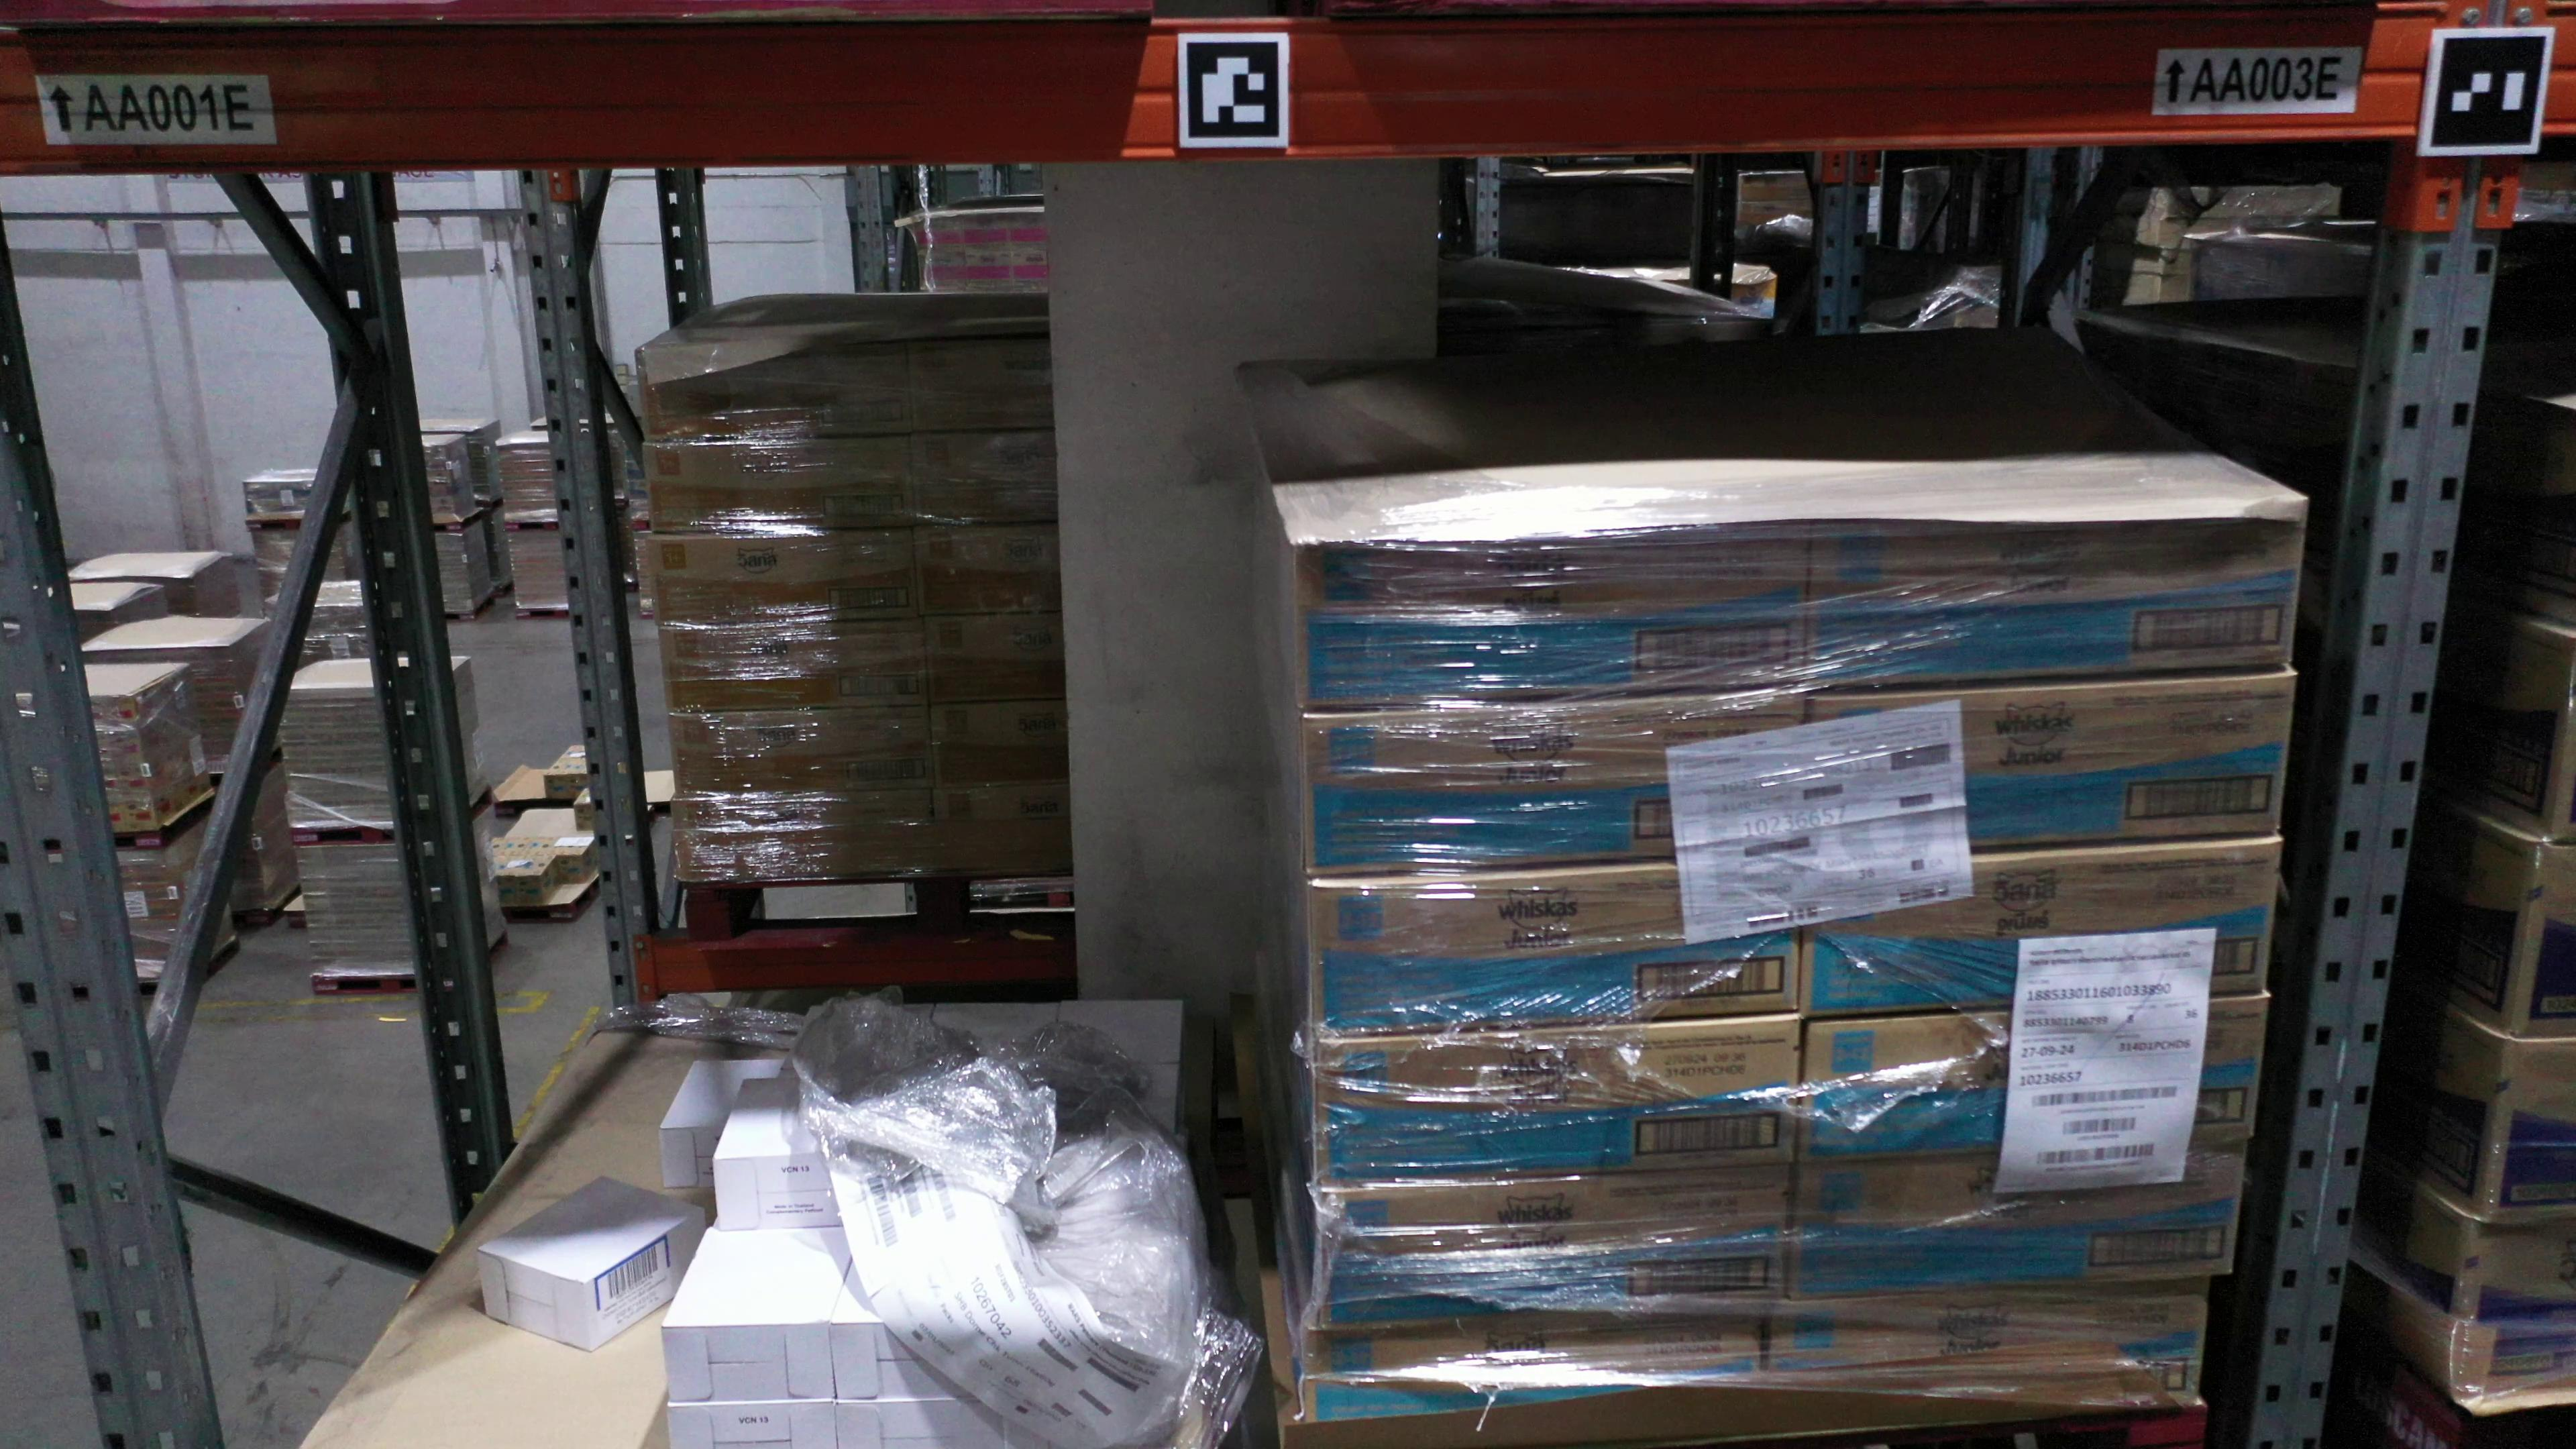-: (1299, 525, 1812, 718), (1808, 499, 2305, 694), (1306, 697, 1806, 888), (1808, 672, 2296, 865), (1311, 863, 1799, 1042), (1799, 840, 2277, 1023), (1315, 1019, 1799, 1194), (1799, 993, 2265, 1169), (1313, 1164, 1790, 1330), (1785, 1141, 2245, 1302), (1762, 1281, 2212, 1408), (1302, 1311, 1762, 1424), (2452, 1217, 2576, 1399), (2484, 1040, 2576, 1219), (663, 1323, 833, 1405), (2514, 840, 2576, 1040), (828, 1322, 977, 1405), (483, 1251, 594, 1350), (833, 1399, 1051, 1449), (715, 1155, 842, 1230), (667, 1408, 837, 1449)
box: (642, 433, 915, 536), (637, 341, 911, 442), (648, 529, 922, 628), (660, 621, 929, 715), (669, 708, 932, 800), (672, 796, 941, 883), (908, 334, 1056, 433), (915, 522, 1065, 616), (913, 433, 1060, 525), (922, 612, 1067, 702), (927, 699, 1069, 791), (932, 787, 1072, 876)
